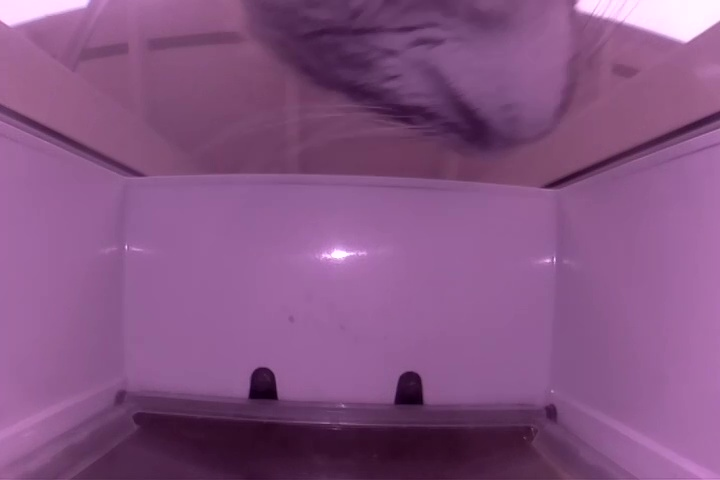Snout: (412, 49, 582, 155)
